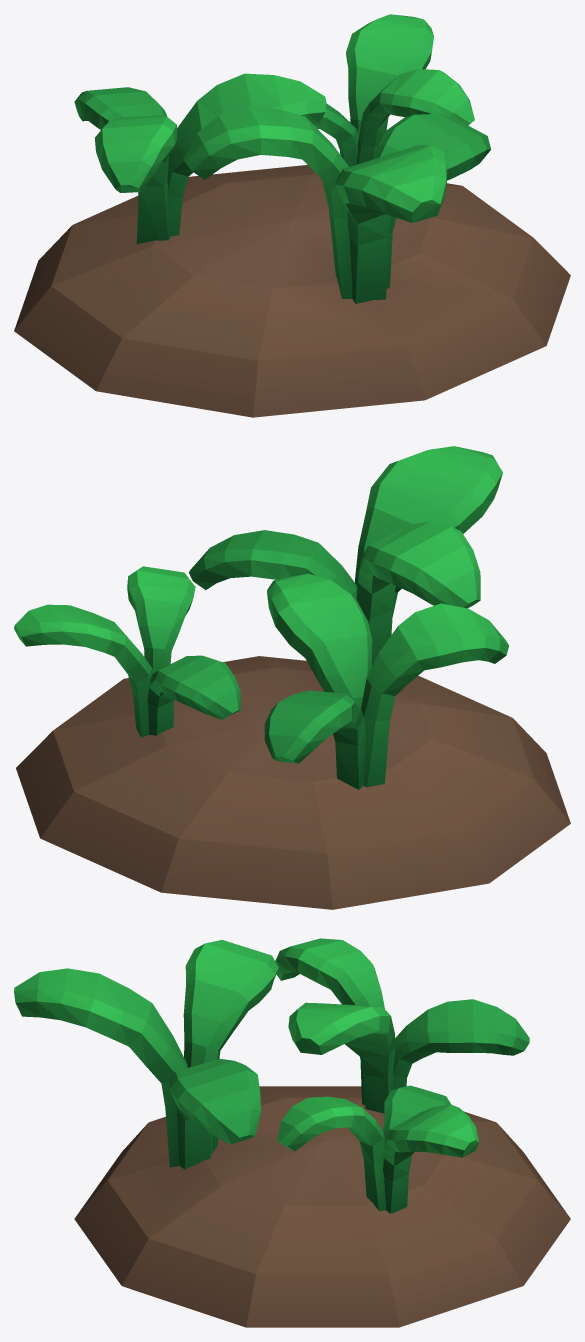
Rendered from crop_stage1.glb.
3 views of the same model, one above another, from view 1: azimuth 30°, elevation 25°; view 2: azimuth 150°, elevation 25°; view 3: azimuth 270°, elevation 25° (orthographic). The views are drawn at different scales.
Visible parts, largest first — view 1: crop_stage1; view 2: crop_stage1; view 3: crop_stage1.
Boxes of the visible parts, x1,y1,x2,y2 form: crop_stage1: (14,14,570,417); crop_stage1: (14,446,570,909); crop_stage1: (14,938,570,1327).
Bounding box in the file's own units: 0.3614 × 0.18 × 0.3921.
1 material, 1 textured.
